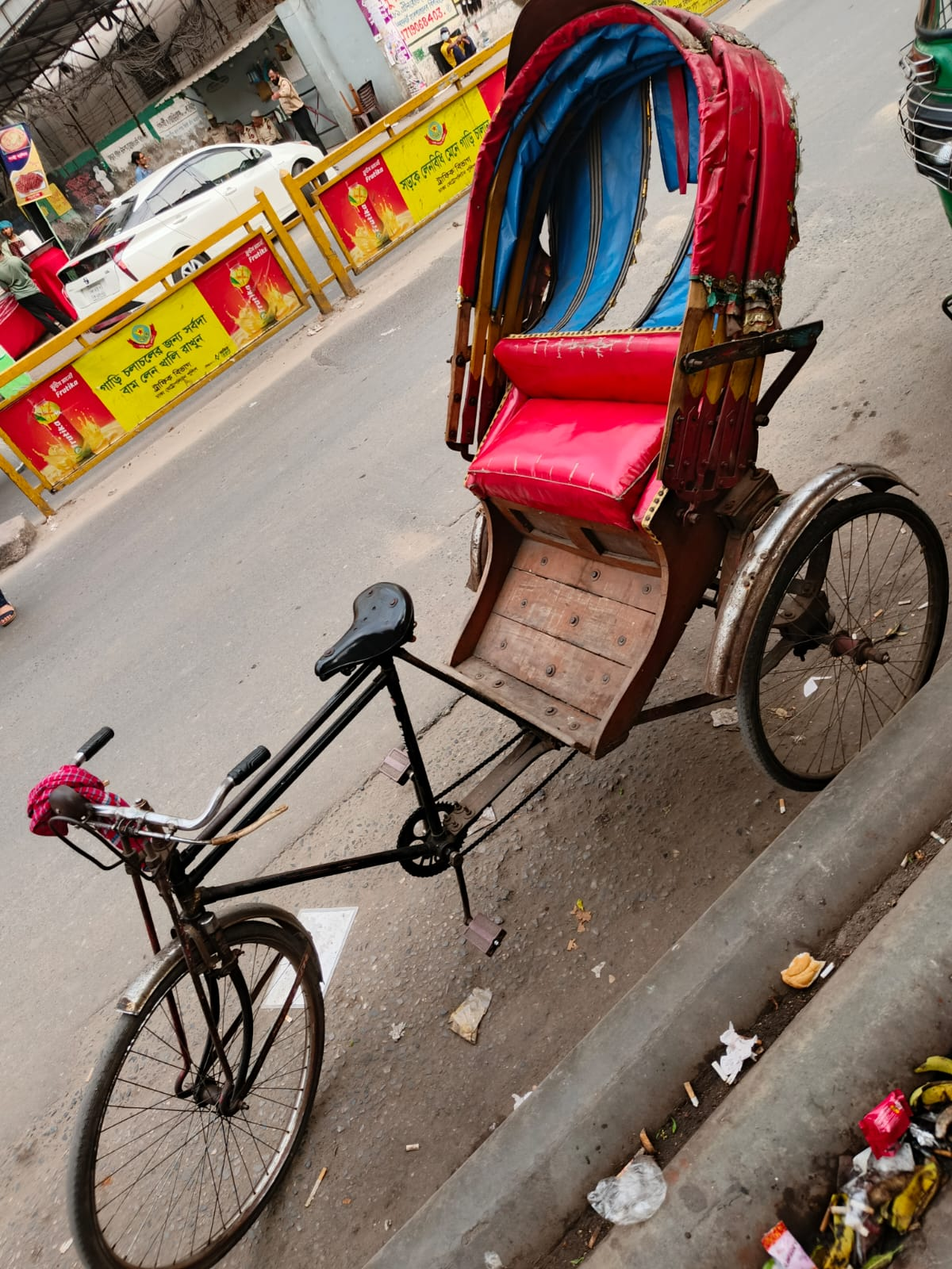auto-ricksaw: (24, 22, 948, 1246)
private car: (58, 109, 374, 340)
